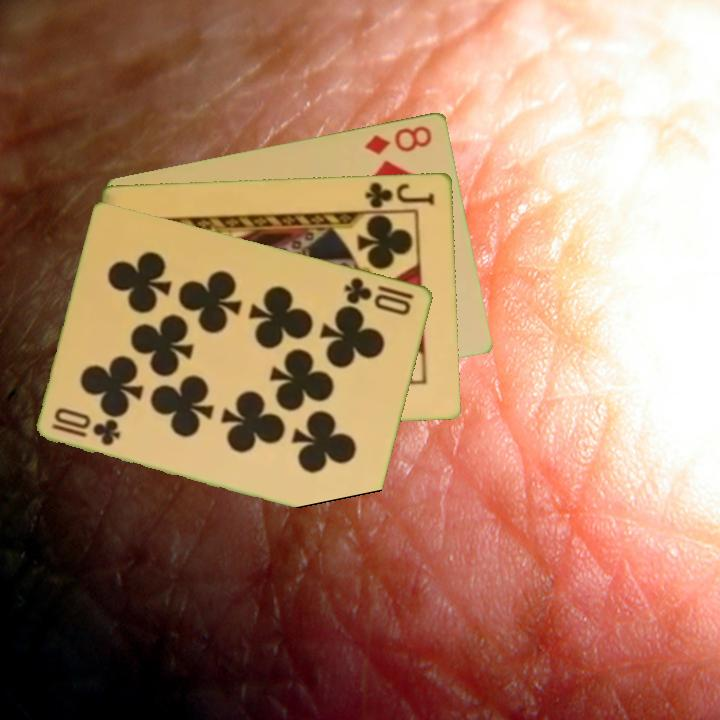10c: (341, 273, 417, 318), (48, 418, 124, 449)
8d: (361, 121, 435, 157)
Jc: (361, 178, 438, 211)
